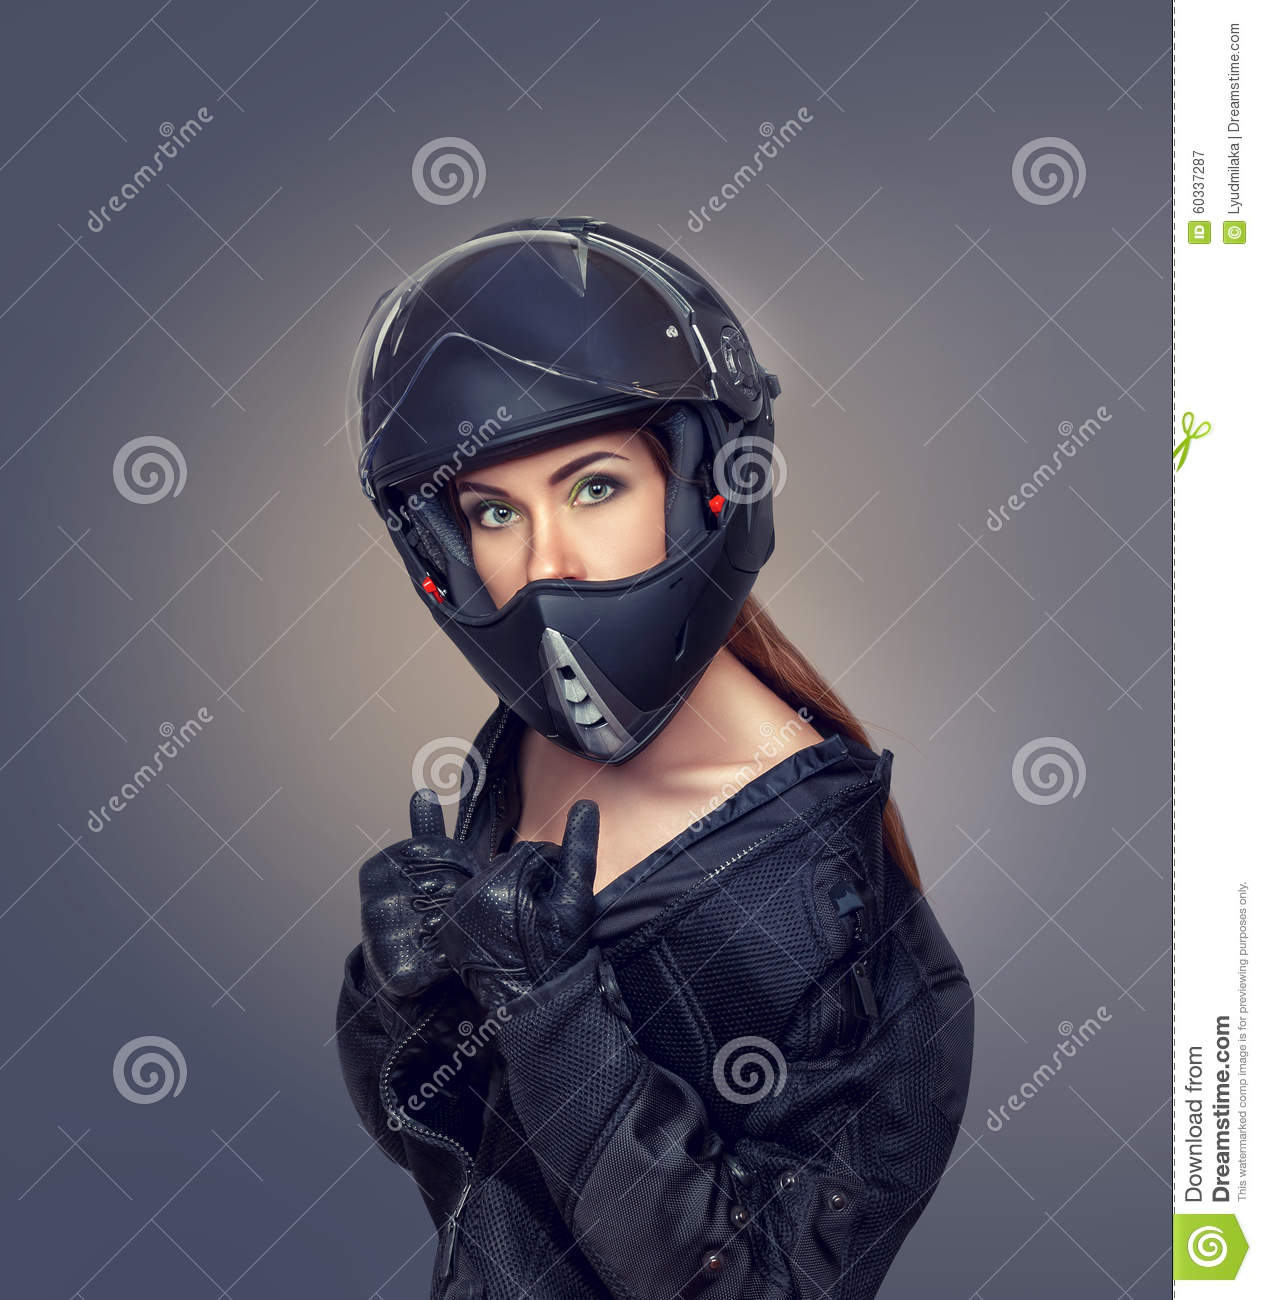helmet: (320, 261, 805, 703)
